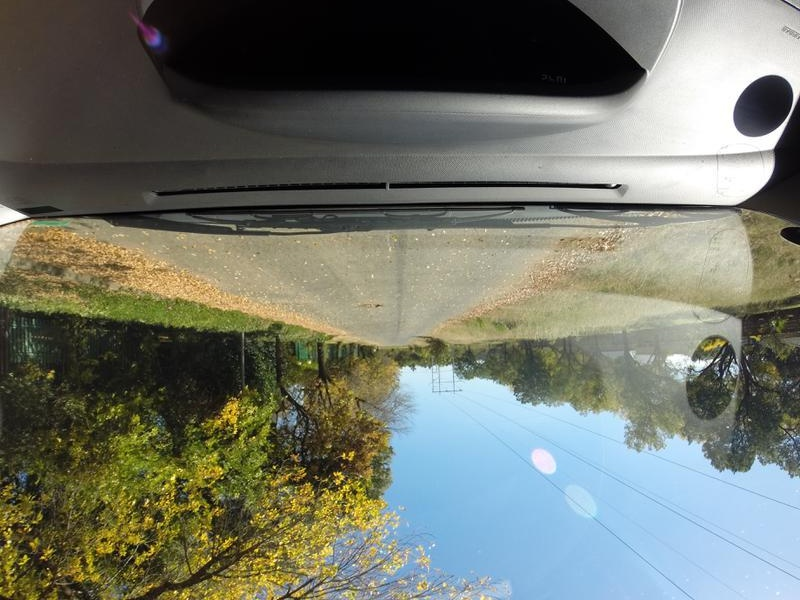pothole: (350, 299, 379, 307)
